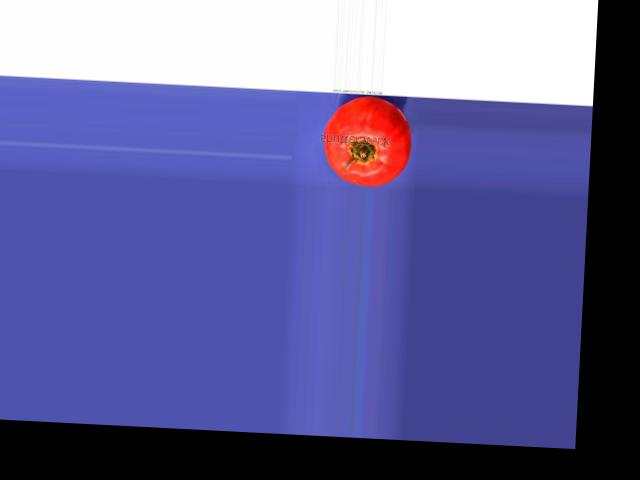tomato: (321, 95, 414, 188)
